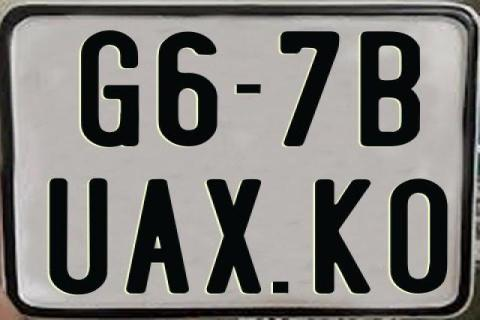0: (390, 176, 452, 295), (277, 29, 339, 144), (157, 31, 218, 147)
A: (124, 180, 191, 296)
B: (358, 31, 420, 150)
G: (79, 28, 141, 149)
K: (312, 178, 373, 296)
U: (48, 177, 107, 297)
X: (204, 177, 263, 293)
